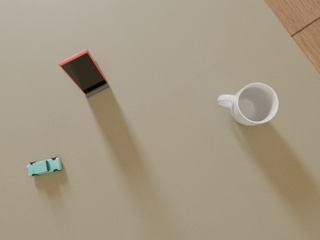cup: (217, 83, 278, 125)
phone: (59, 49, 107, 93)
toy_car: (27, 157, 62, 176)
